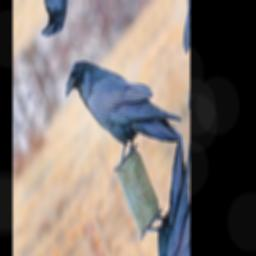Crow: (58, 0, 186, 222)
